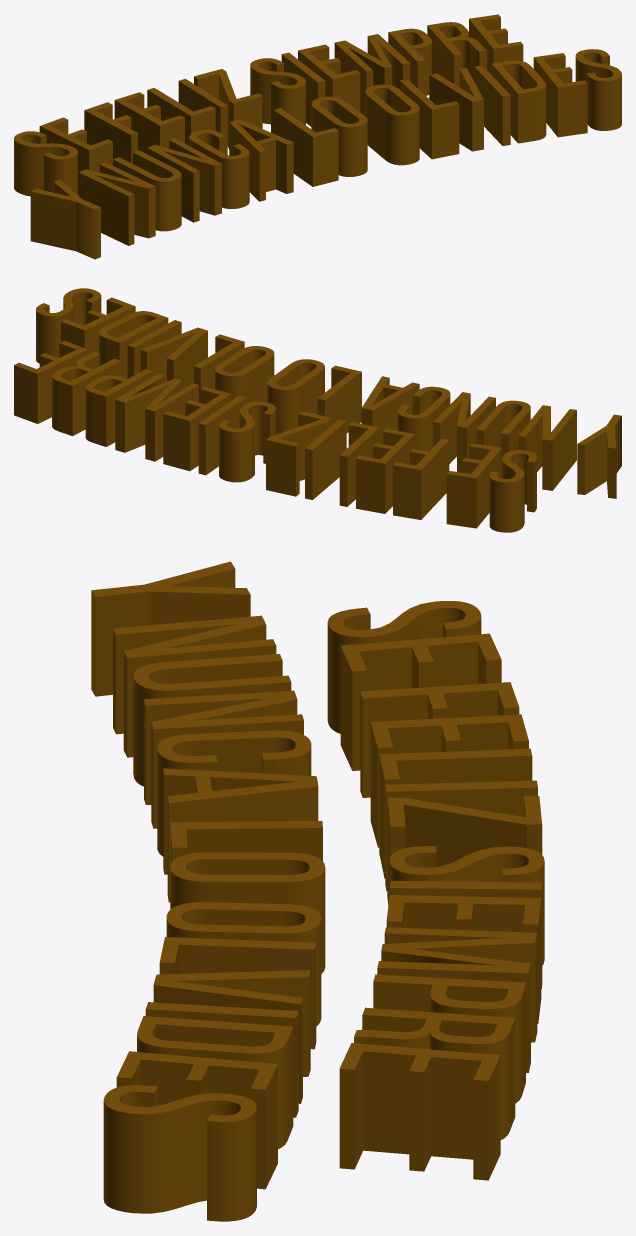
Rendered from feliz.obj.
3 views of the same model, one above another, from view 1: azimuth 30°, elevation 25°; view 2: azimuth 150°, elevation 25°; view 3: azimuth 270°, elevation 25° (orthographic). The views are drawn at different scales.
Parts seen in each view (by area): view 1: Shape1; view 2: Shape1; view 3: Shape1.
Boxes of the visible parts, bbox=[...] form: Shape1: bbox=[14, 14, 621, 259]; Shape1: bbox=[14, 288, 621, 532]; Shape1: bbox=[91, 561, 544, 1221].
Size of the model in its own units: 12.08 by 1 by 4.13.
